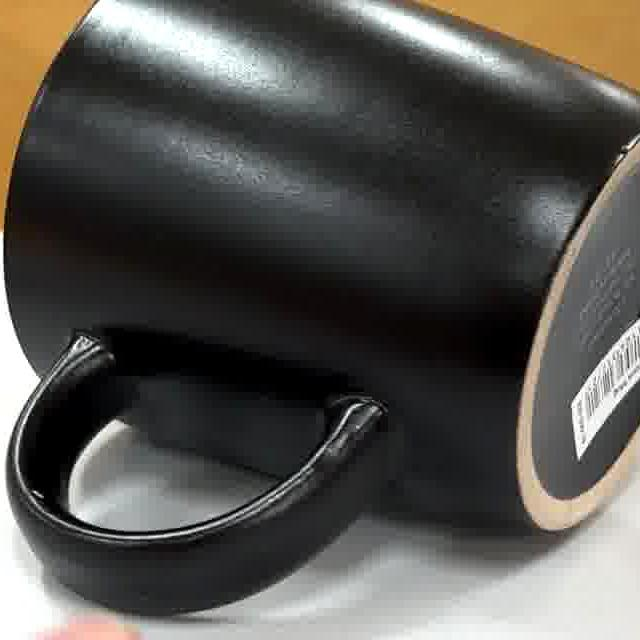cup: (4, 0, 640, 617)
